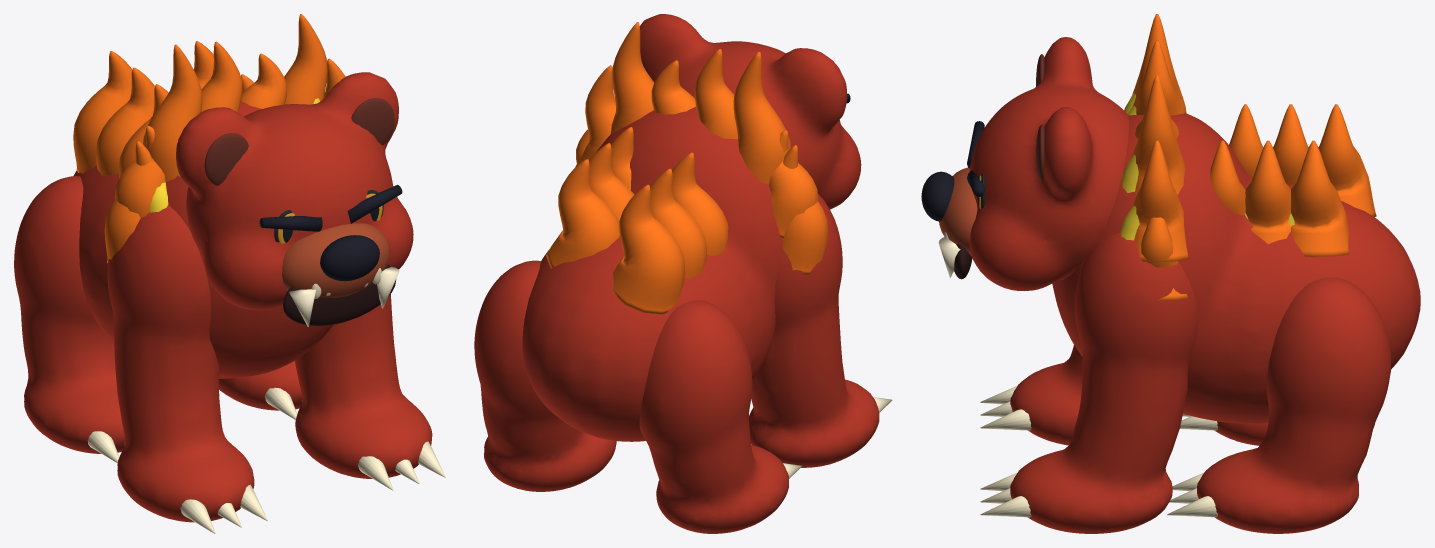
The model's file is flamebear.glb.
The picture shows the model from 3 angles, left to right: view 1: azimuth 30°, elevation 25°; view 2: azimuth 150°, elevation 25°; view 3: azimuth 270°, elevation 25°; orthographic projection. The views are drawn at different scales.
Visible parts, largest first — view 1: broad bear head, bear upper limb, bear upper limb.001, bear upper limb.002, bear barrel, bear muzzle, flame outer.005, flame outer.014, flame outer.016, flame outer.002, snarling mouth, bear upper limb.003 (+17 smaller); view 2: bear barrel, bear upper limb.001, bear upper limb, bear upper limb.003, broad bear head, flame outer.014, flame outer.015, flame outer.005, flame outer.002, flame outer.016, flame outer.018, flame outer.007 (+6 smaller); view 3: bear barrel, bear upper limb.002, bear upper limb.003, broad bear head, flame outer.015, bear upper limb, flame outer.001, flame outer.017, flame outer.014, flame outer.002, bear muzzle, flame outer.016 (+10 smaller).
Boxes of the visible parts, bbox=[...] form: broad bear head: bbox=[176, 72, 413, 310]; bear upper limb: bbox=[107, 205, 254, 522]; bear upper limb.001: bbox=[14, 176, 125, 453]; bear upper limb.002: bbox=[294, 294, 432, 478]; bear barrel: bbox=[73, 101, 332, 378]; bear muzzle: bbox=[282, 223, 390, 297]; flame outer.005: bbox=[143, 44, 202, 181]; flame outer.014: bbox=[73, 51, 132, 173]; flame outer.016: bbox=[96, 67, 154, 175]; flame outer.002: bbox=[284, 14, 327, 104]; snarling mouth: bbox=[283, 264, 396, 325]; bear upper limb.003: bbox=[218, 361, 302, 410]; bear barrel: bbox=[522, 106, 782, 441]; bear upper limb.001: bbox=[639, 300, 788, 533]; bear upper limb: bbox=[749, 194, 879, 467]; bear upper limb.003: bbox=[474, 260, 616, 491]; broad bear head: bbox=[640, 14, 861, 209]; flame outer.014: bbox=[613, 184, 685, 314]; flame outer.015: bbox=[546, 159, 619, 268]; flame outer.005: bbox=[733, 51, 790, 184]; flame outer.002: bbox=[611, 22, 654, 133]; flame outer.016: bbox=[650, 168, 706, 279]; flame outer.018: bbox=[672, 152, 728, 256]; flame outer.007: bbox=[782, 145, 827, 275]; bear barrel: bbox=[1052, 112, 1420, 423]; bear upper limb.002: bbox=[1010, 232, 1198, 533]; bear upper limb.003: bbox=[1197, 277, 1390, 533]; broad bear head: bbox=[969, 37, 1128, 290]; flame outer.015: bbox=[1291, 140, 1349, 256]; bear upper limb: bbox=[1010, 345, 1082, 445]; flame outer.001: bbox=[1133, 140, 1188, 262]; flame outer.017: bbox=[1245, 140, 1291, 244]; flame outer.014: bbox=[1318, 104, 1376, 216]; flame outer.002: bbox=[1132, 75, 1185, 194]; bear muzzle: bbox=[939, 167, 977, 255]; flame outer.016: bbox=[1273, 104, 1308, 185].
Size of the model in its own units: 0.9735 by 1.4 by 1.46.
